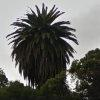Tree: (5, 2, 80, 97)
